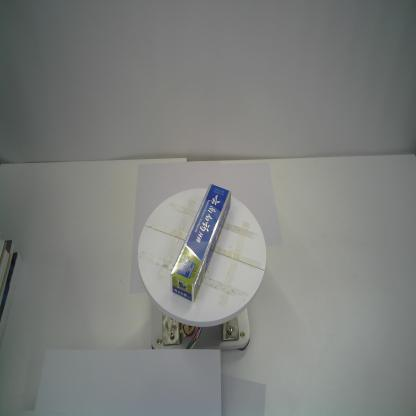Personal Hygiene: (170, 183, 232, 304)
